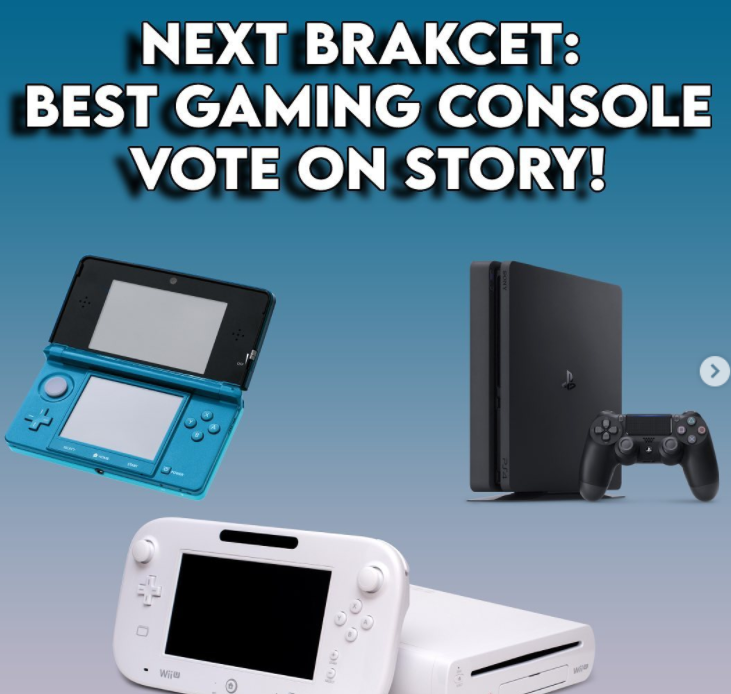gamingconsole: (582, 409, 720, 505)
